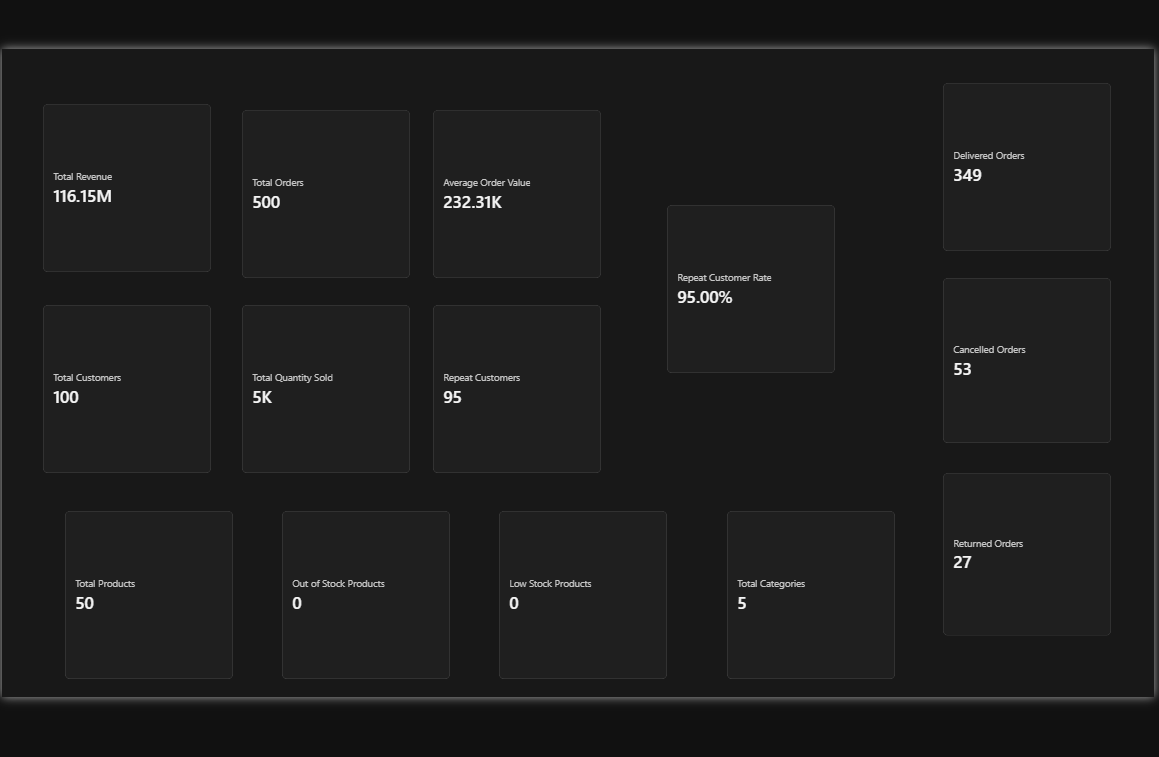

The page's visual inventory and layout, read from the dashboard file:
{"tool":"powerbi","page":{"name":"Sales Performance","canvas":[1920,1080],"ordinal":0},"visuals":[{"type":"cardVisual","fields":{"Data":["DateTable.Total Revenue"]},"box":[68.3,91.7,280,280],"z":0},{"type":"cardVisual","fields":{"Data":["DateTable.Total Orders"]},"box":[400,100.8,280,280],"z":1000},{"type":"cardVisual","fields":{"Data":["DateTable.Average Order Value"]},"box":[717.5,100.8,280,280],"z":2000},{"type":"cardVisual","fields":{"Data":["DateTable.Total Customers"]},"box":[68.3,426.7,280,280],"z":3000},{"type":"cardVisual","fields":{"Data":["DateTable.Total Quantity Sold"]},"box":[400,426.7,280,280],"z":4000},{"type":"cardVisual","fields":{"Data":["DateTable.Repeat Customers"]},"box":[718.3,426.7,280,280],"z":5000},{"type":"cardVisual","fields":{"Data":["DateTable.Repeat Customer Rate"]},"box":[1108.3,260,280,280],"z":6000},{"type":"cardVisual","fields":{"Data":["DateTable.Total Products"]},"box":[105,770,280,280],"z":7000},{"type":"cardVisual","fields":{"Data":["DateTable.Out of Stock Products"]},"box":[466.7,770,280,280],"z":8000},{"type":"cardVisual","fields":{"Data":["DateTable.Low Stock Products"]},"box":[828.3,770,280,280],"z":9000},{"type":"cardVisual","fields":{"Data":["DateTable.Total Categories"]},"box":[1208.3,770,280,280],"z":10000},{"type":"cardVisual","fields":{"Data":["DateTable.Delivered Orders"]},"box":[1568.3,56.7,280,280],"z":11000},{"type":"cardVisual","fields":{"Data":["DateTable.Cancelled Orders"]},"box":[1568.3,381.7,280,275],"z":12000},{"type":"cardVisual","fields":{"Data":["DateTable.Returned Orders"]},"box":[1568.3,706.7,280,271.7],"z":13000}]}

Visuals, with their boxes on the page's 1920x1080 design canvas (x1, y1, x2, y2). These are canvas units, not pixel positions in the 1159x757 screenshot, which may show the page scaled, cropped or inside an application window:
cardVisual - DateTable.Total Revenue: 68 92 348 372
cardVisual - DateTable.Total Orders: 400 101 680 381
cardVisual - DateTable.Average Order Value: 718 101 998 381
cardVisual - DateTable.Total Customers: 68 427 348 707
cardVisual - DateTable.Total Quantity Sold: 400 427 680 707
cardVisual - DateTable.Repeat Customers: 718 427 998 707
cardVisual - DateTable.Repeat Customer Rate: 1108 260 1388 540
cardVisual - DateTable.Total Products: 105 770 385 1050
cardVisual - DateTable.Out of Stock Products: 467 770 747 1050
cardVisual - DateTable.Low Stock Products: 828 770 1108 1050
cardVisual - DateTable.Total Categories: 1208 770 1488 1050
cardVisual - DateTable.Delivered Orders: 1568 57 1848 337
cardVisual - DateTable.Cancelled Orders: 1568 382 1848 657
cardVisual - DateTable.Returned Orders: 1568 707 1848 978
